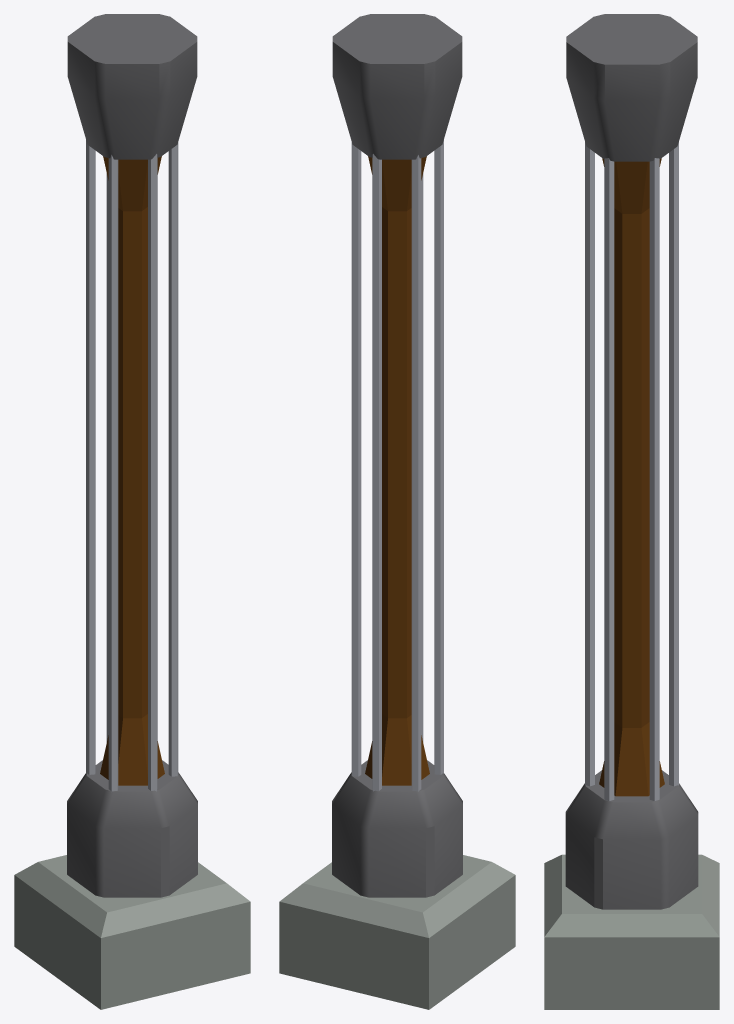
Rendered from pilar_climb.fbx.
3 renders of one model, left to right at view 1: azimuth 30°, elevation 25°; view 2: azimuth 150°, elevation 25°; view 3: azimuth 270°, elevation 25°, orthographic.
Parts seen in each view (by area): view 1: pCylinder10; view 2: pCylinder10; view 3: pCylinder10.
Boxes of the visible parts, x1,y1,x2,y2 form: pCylinder10: (14, 14, 250, 1009); pCylinder10: (279, 14, 515, 1009); pCylinder10: (544, 14, 719, 1009).
Bounding box in the file's own units: 1 × 5.88 × 1.
1 material, 1 textured.
